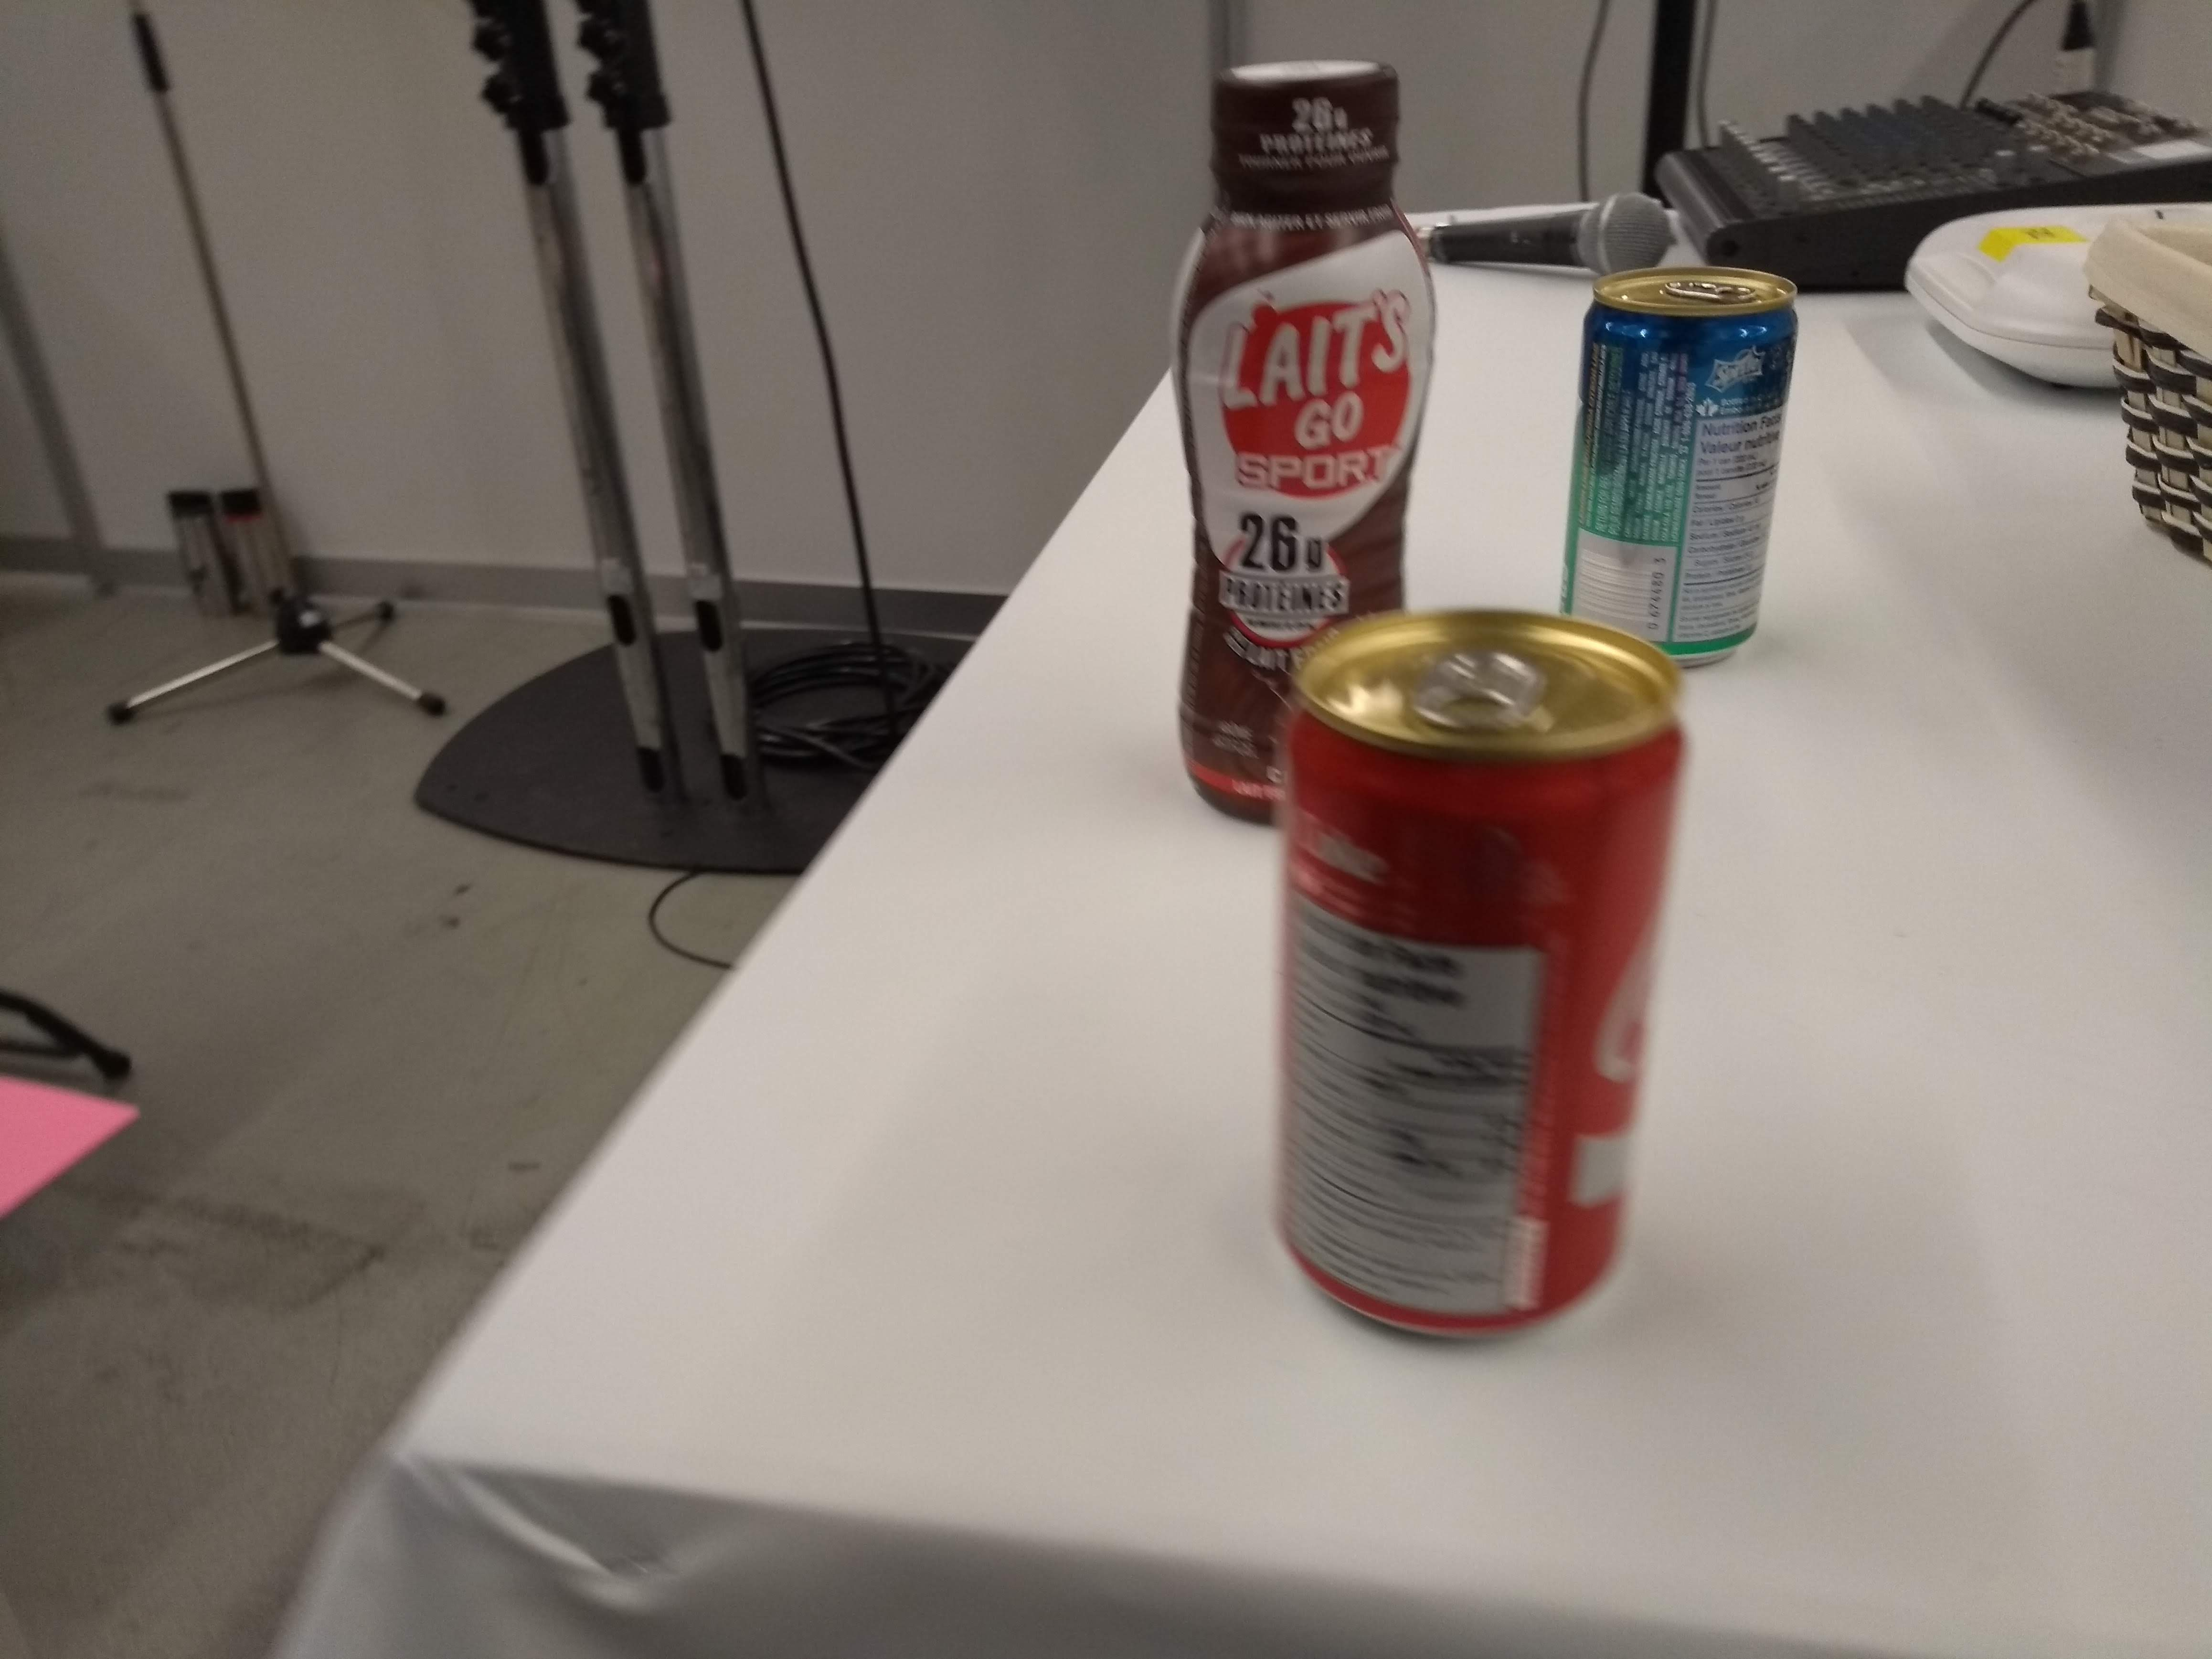chocolate_drink: (1146, 58, 1440, 727)
coke: (1242, 592, 1707, 1356)
sprite: (1554, 268, 1803, 690)
